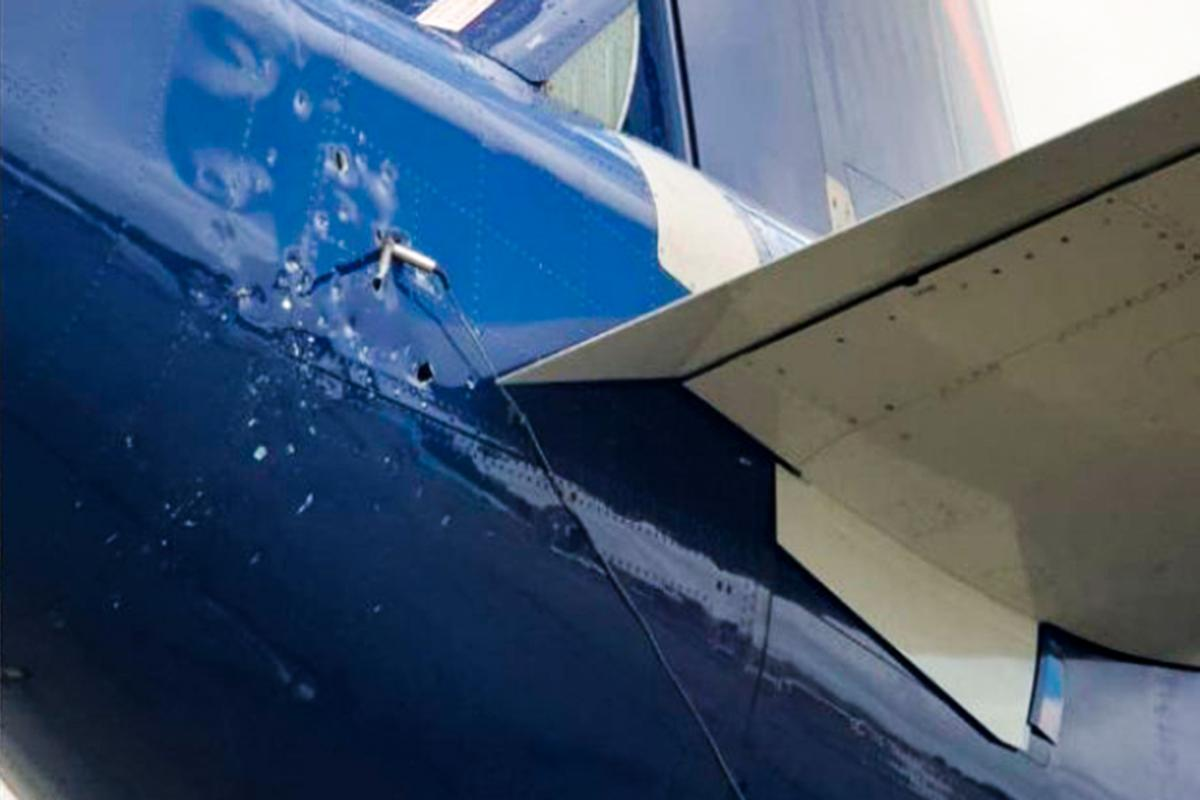Fuselage_damage: (131, 3, 501, 539), (363, 218, 460, 296), (324, 141, 352, 178), (412, 353, 439, 389)
